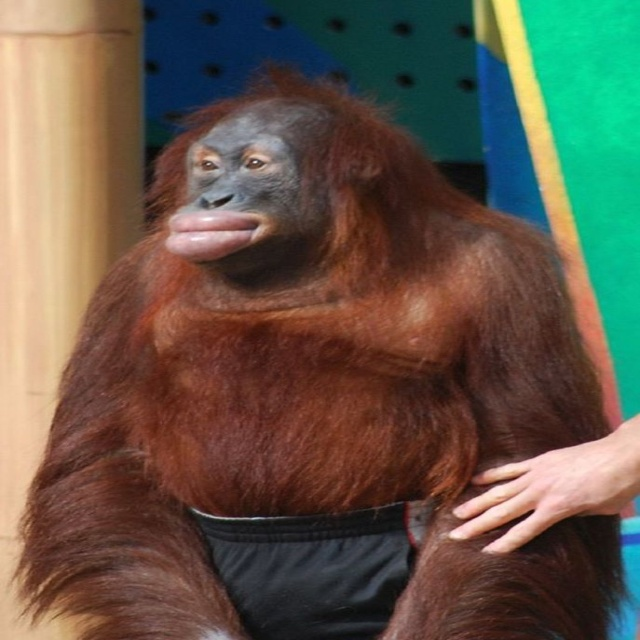Monkey: (4, 58, 640, 640)
